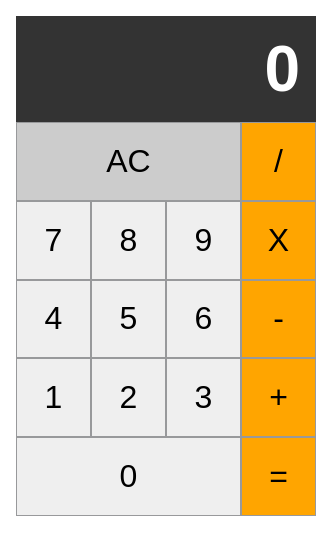
Scenario: Calculator › computes the correct result for a multiplication
This screenshot has width=333, height=533.
Step 1. Click the button "6" → (204, 319), box [166,280,241,358]
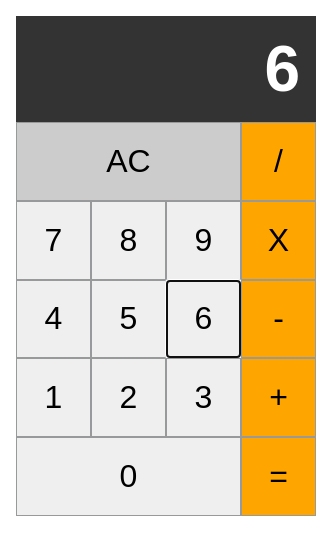
Step 2. Click the button "X" → (278, 240), box [241,201,316,280]
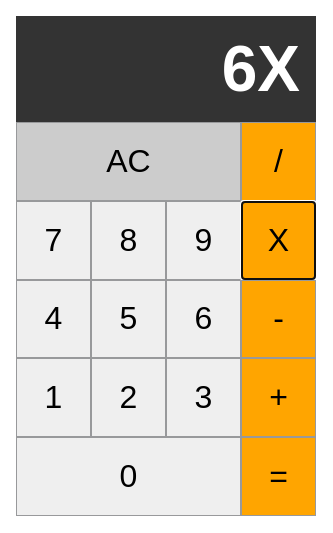
Step 3. Click the button "3" → (204, 398), box [166,358,241,437]
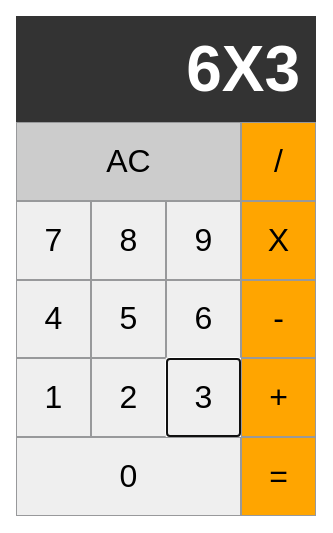
Step 4. Click the button "=" → (278, 477), box [241,437,316,516]
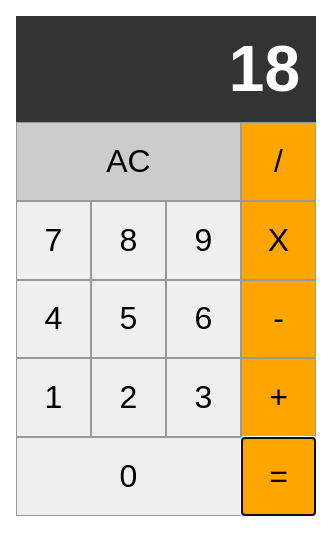
Now the heading reads "18", box [229,33,300,105]
